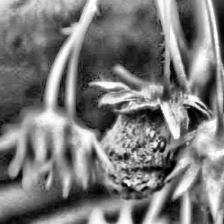Gray Mold: (89, 60, 212, 200)
